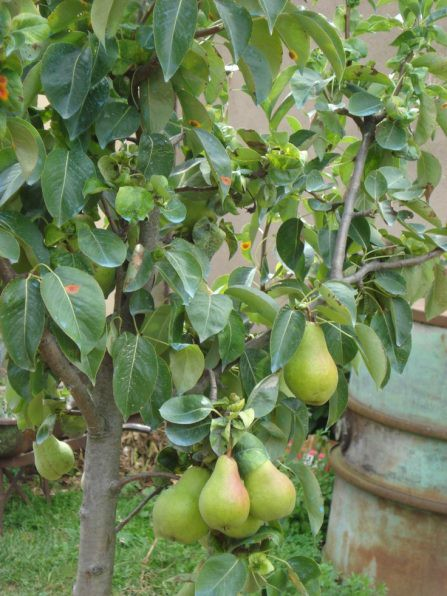pear: (237, 434, 296, 521), (283, 319, 337, 405), (153, 464, 210, 543), (200, 453, 250, 532), (32, 425, 75, 481)
